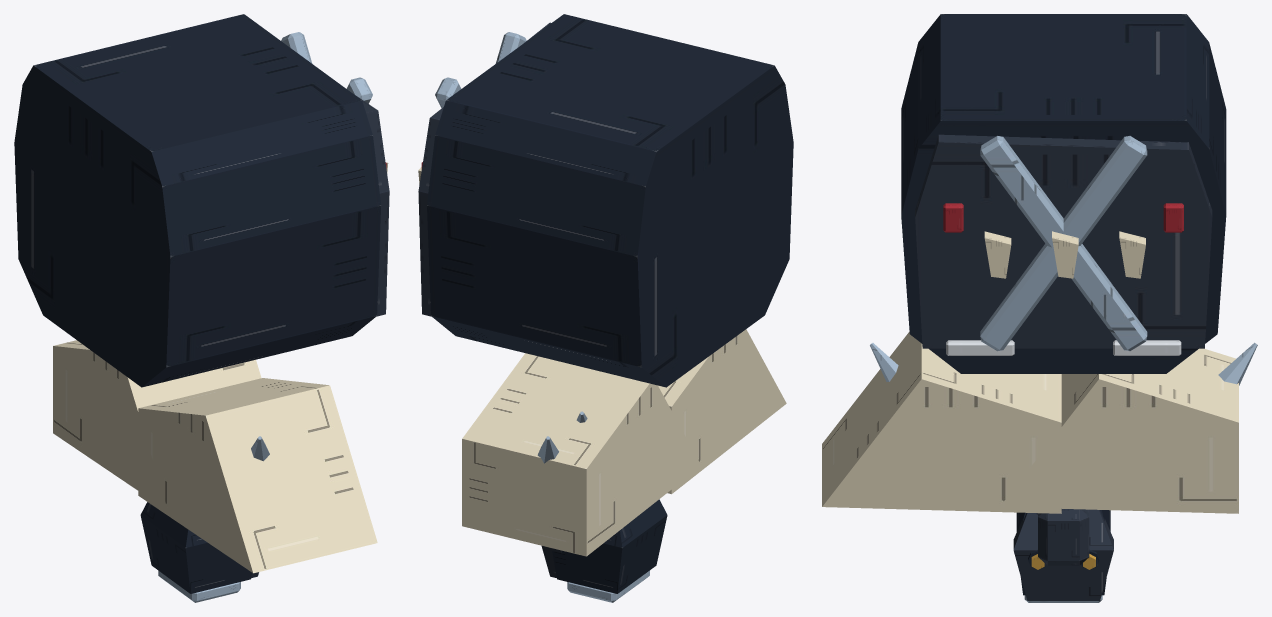
File: berserker.glb
The picture shows the model from 3 angles, left to right: view 1: azimuth 30°, elevation 25°; view 2: azimuth 150°, elevation 25°; view 3: azimuth 270°, elevation 25°; orthographic projection. The views are drawn at different scales.
Visible parts, largest first — view 1: chest, arm_R, arm_L, forearm_L; view 2: chest, arm_L, arm_R, forearm_L; view 3: chest, arm_L, arm_R, forearm_L.
Part boxes in pixels (x1=…): chest: x1=14, y1=14, x2=389, y2=387; arm_R: x1=138, y1=378, x2=377, y2=573; arm_L: x1=53, y1=340, x2=261, y2=510; forearm_L: x1=140, y1=502, x2=258, y2=602; chest: x1=418, y1=14, x2=793, y2=387; arm_L: x1=462, y1=353, x2=701, y2=556; arm_R: x1=658, y1=329, x2=786, y2=494; forearm_L: x1=541, y1=499, x2=667, y2=602; chest: x1=901, y1=14, x2=1226, y2=373; arm_L: x1=1000, y1=342, x2=1257, y2=565; arm_R: x1=822, y1=331, x2=1061, y2=513; forearm_L: x1=1013, y1=509, x2=1113, y2=602.
Size of the model in its own units: 0.29 by 0.5405 by 0.4076.
7 materials, 7 textured.
